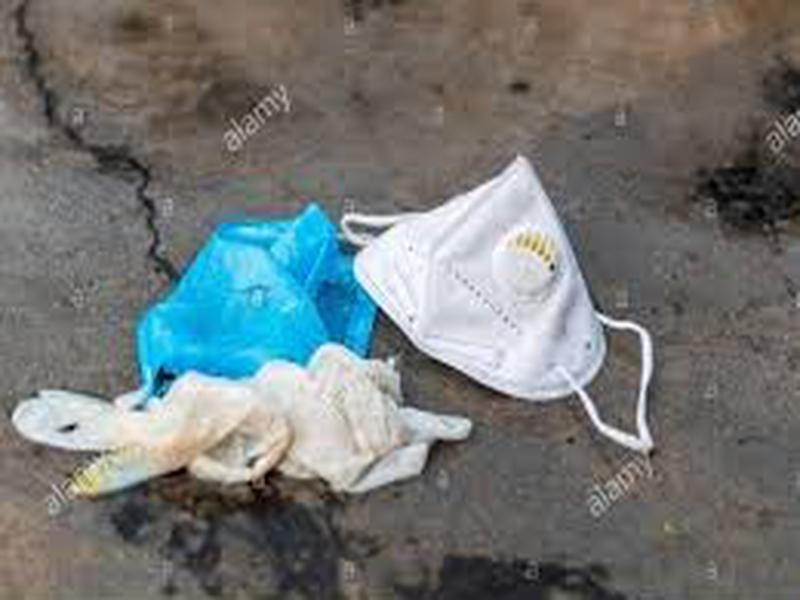gloves: (5, 340, 478, 505)
mask: (339, 146, 667, 464)
